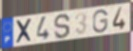3: (74, 12, 88, 36)
4: (36, 15, 51, 43), (111, 6, 127, 31)
G: (92, 9, 109, 34)
S: (53, 13, 72, 40)
X: (15, 18, 34, 45)
